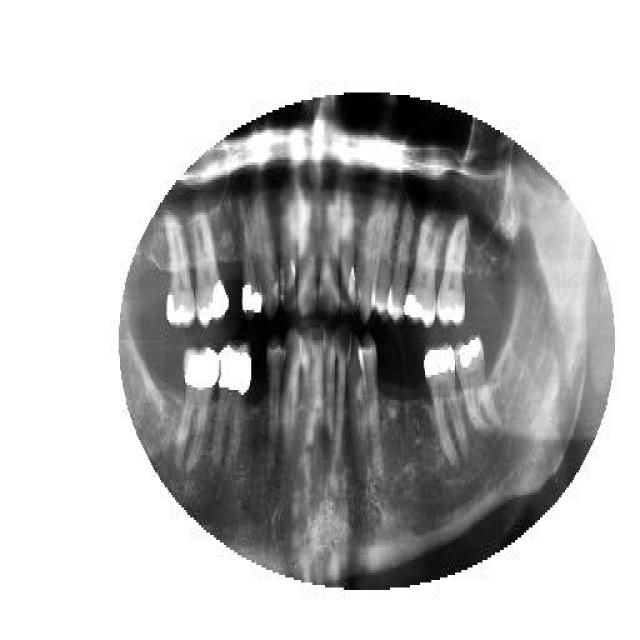Fillings: (169, 338, 220, 478), (424, 333, 466, 475), (188, 190, 228, 332), (211, 337, 250, 475), (458, 338, 502, 460), (432, 200, 468, 330), (162, 208, 198, 328), (407, 210, 438, 330), (238, 202, 264, 318)
